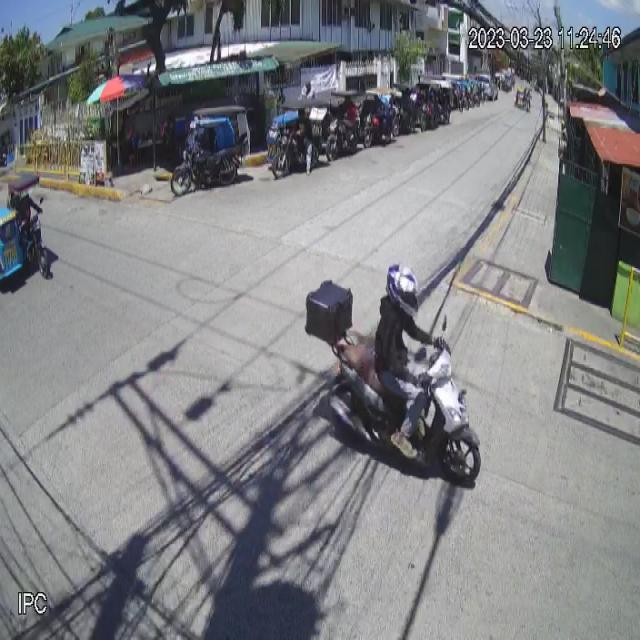Motorcycle: (306, 282, 480, 488)
Tricycle: (170, 105, 250, 196), (0, 174, 50, 282)
